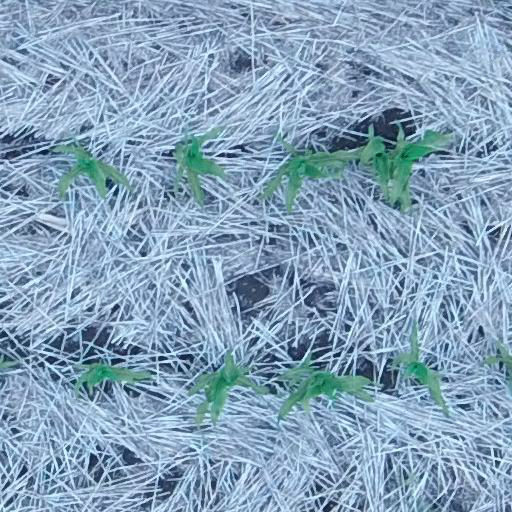planta: (254, 130, 364, 215), (377, 122, 458, 217), (185, 349, 271, 427), (275, 362, 380, 423), (389, 320, 450, 416), (47, 142, 136, 202), (170, 127, 230, 207), (338, 122, 393, 204), (67, 359, 155, 400)
